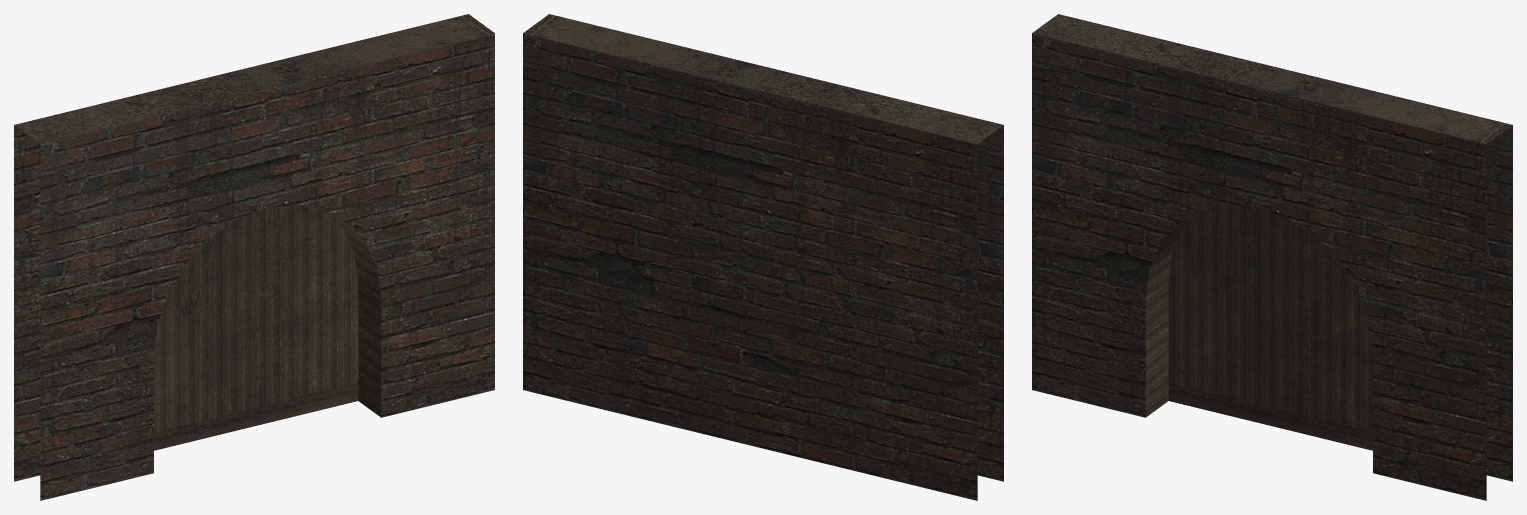
Rendered from wall_hs_15.obj.
3 views of the same model, side by side, from view 1: azimuth 30°, elevation 25°; view 2: azimuth 150°, elevation 25°; view 3: azimuth 330°, elevation 25° (orthographic).
Visible parts, largest first — view 1: wall_hs_15; view 2: wall_hs_15; view 3: wall_hs_15.
Boxes of the visible parts, x1,y1,x2,y2 form: wall_hs_15: (14,14,494,500); wall_hs_15: (523,14,1003,500); wall_hs_15: (1032,14,1512,500).
Bounding box in the file's own units: 4 × 3 × 0.4.
